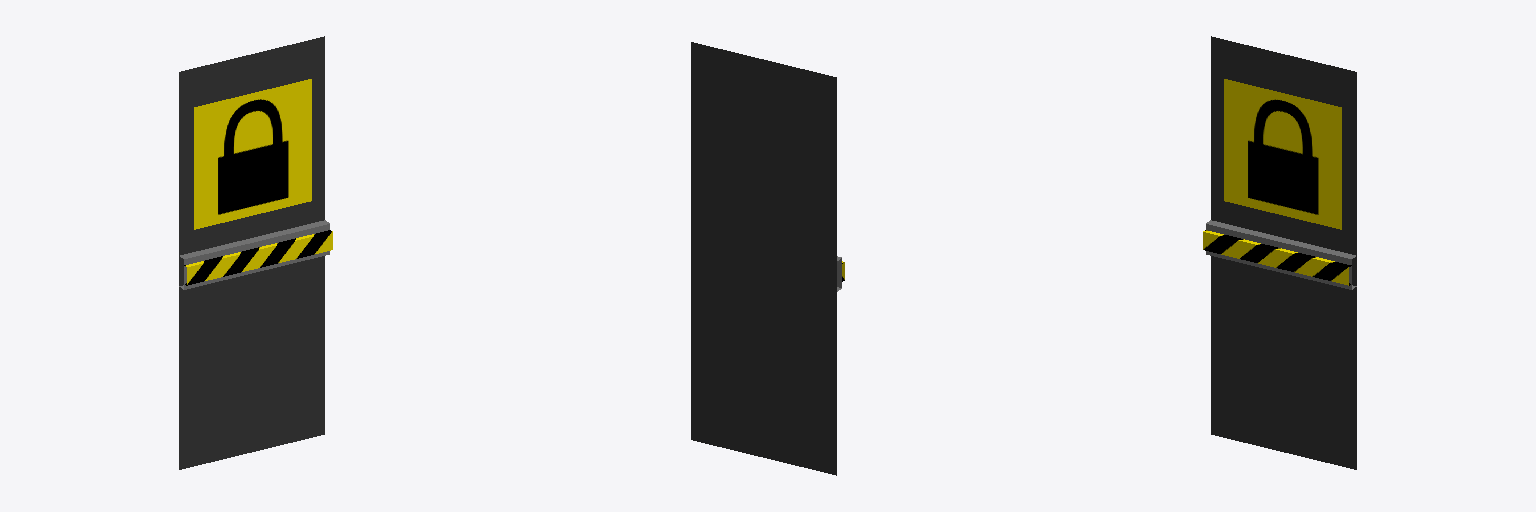
3 renders of one model, left to right at view 1: azimuth 30°, elevation 25°; view 2: azimuth 150°, elevation 25°; view 3: azimuth 330°, elevation 25°, orthographic.
Visible parts, largest first — view 1: Cube.001; view 2: Cube.001; view 3: Cube.001.
Boxes of the visible parts, box(x1,y1,x2,y2) form: Cube.001: box(179, 36, 332, 469); Cube.001: box(691, 42, 844, 475); Cube.001: box(1203, 36, 1356, 469).
Bounding box in the file's own units: 2.5 × 6.5 × 0.225.
Materials: 1 (1 with a texture image).